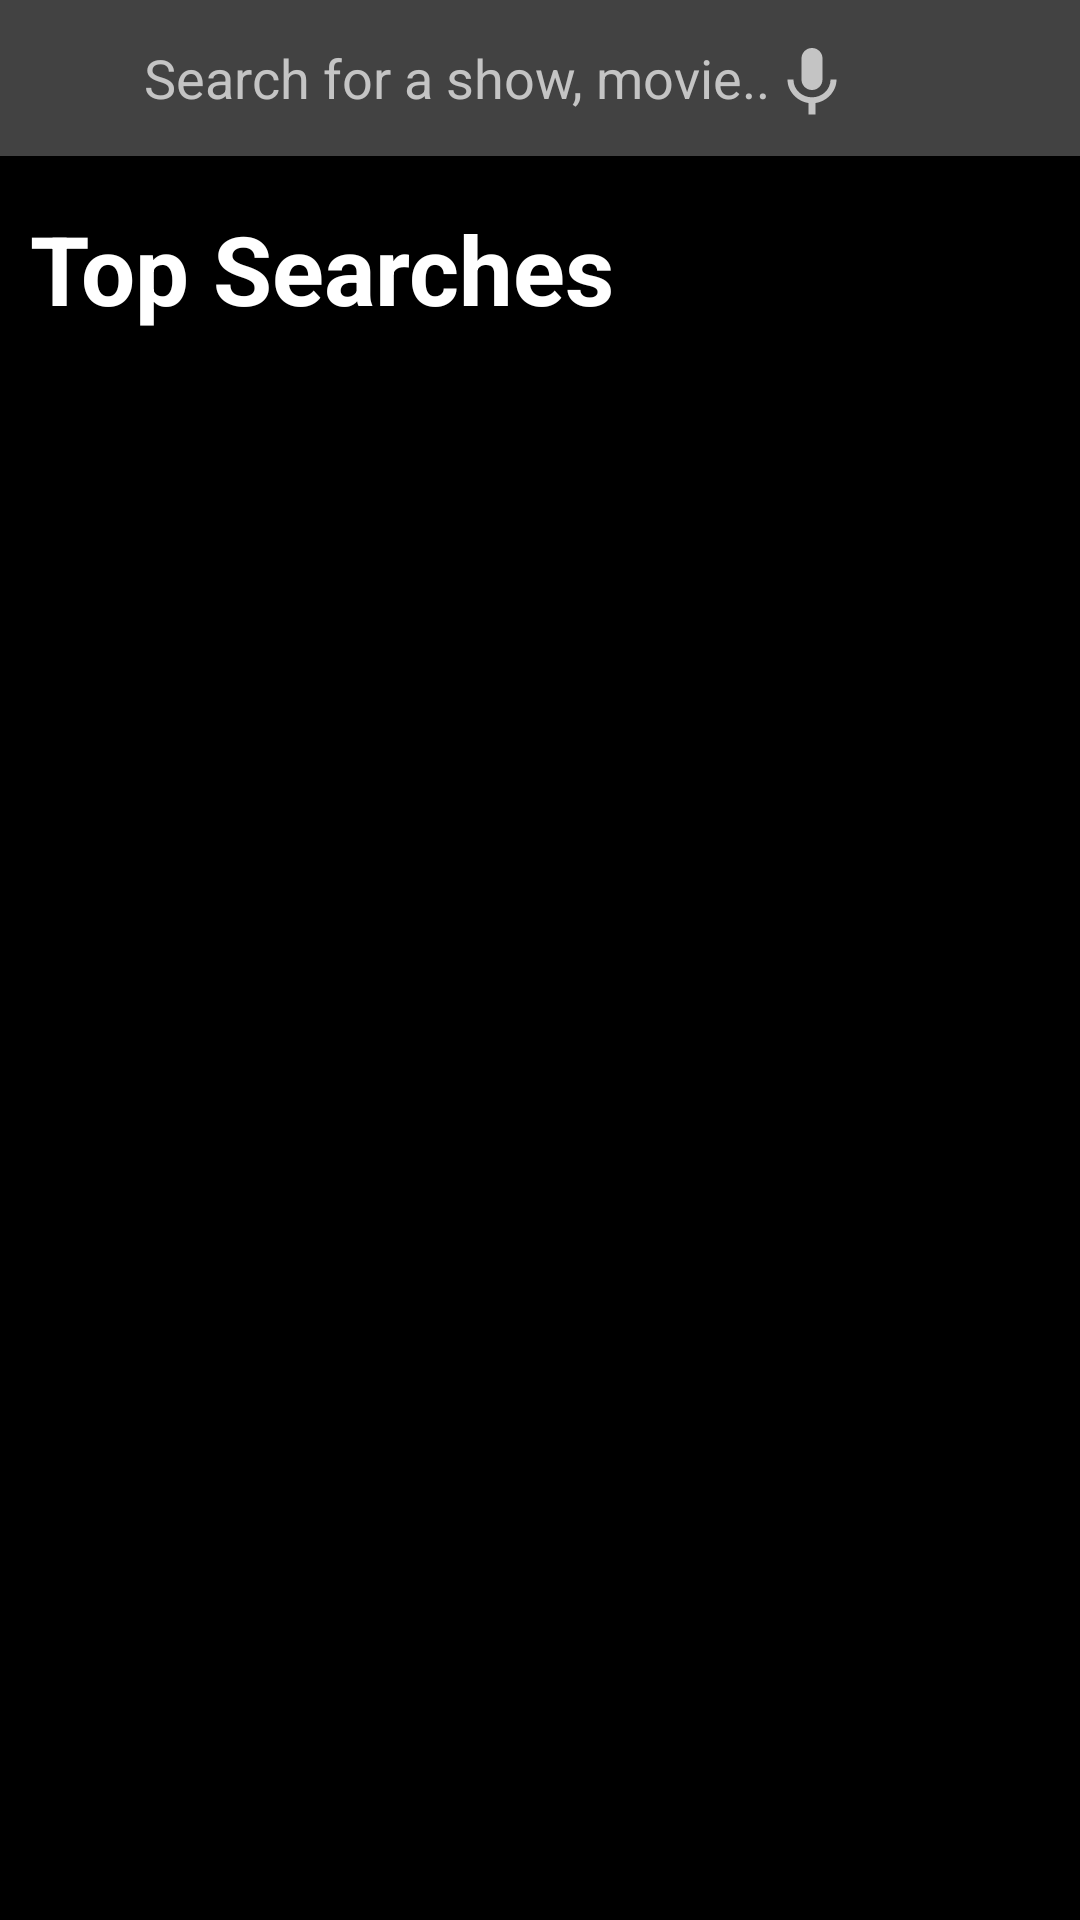

Where icons sit on this 1080x1920 app screen, as {"left": x1, "top": y1, "right": x2, "bottom": y2}:
mic: {"left": 787, "top": 48, "right": 837, "bottom": 115}
